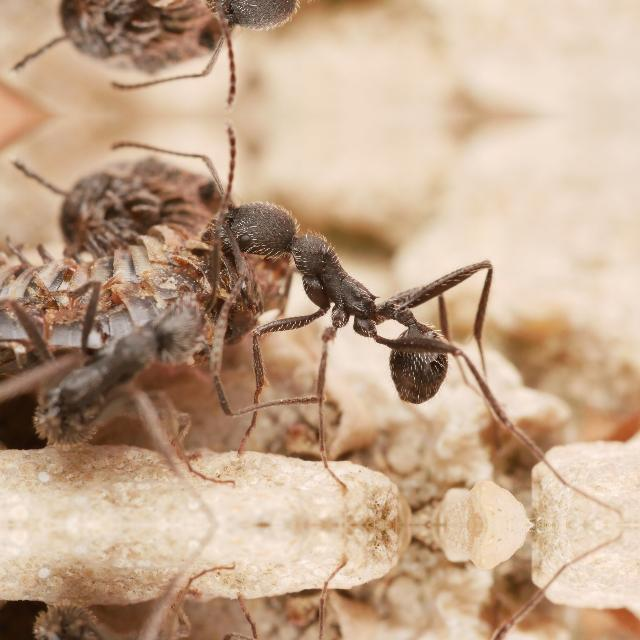Apheanogaster: (161, 165, 521, 429), (5, 258, 229, 476), (161, 0, 521, 64), (5, 572, 229, 640)
